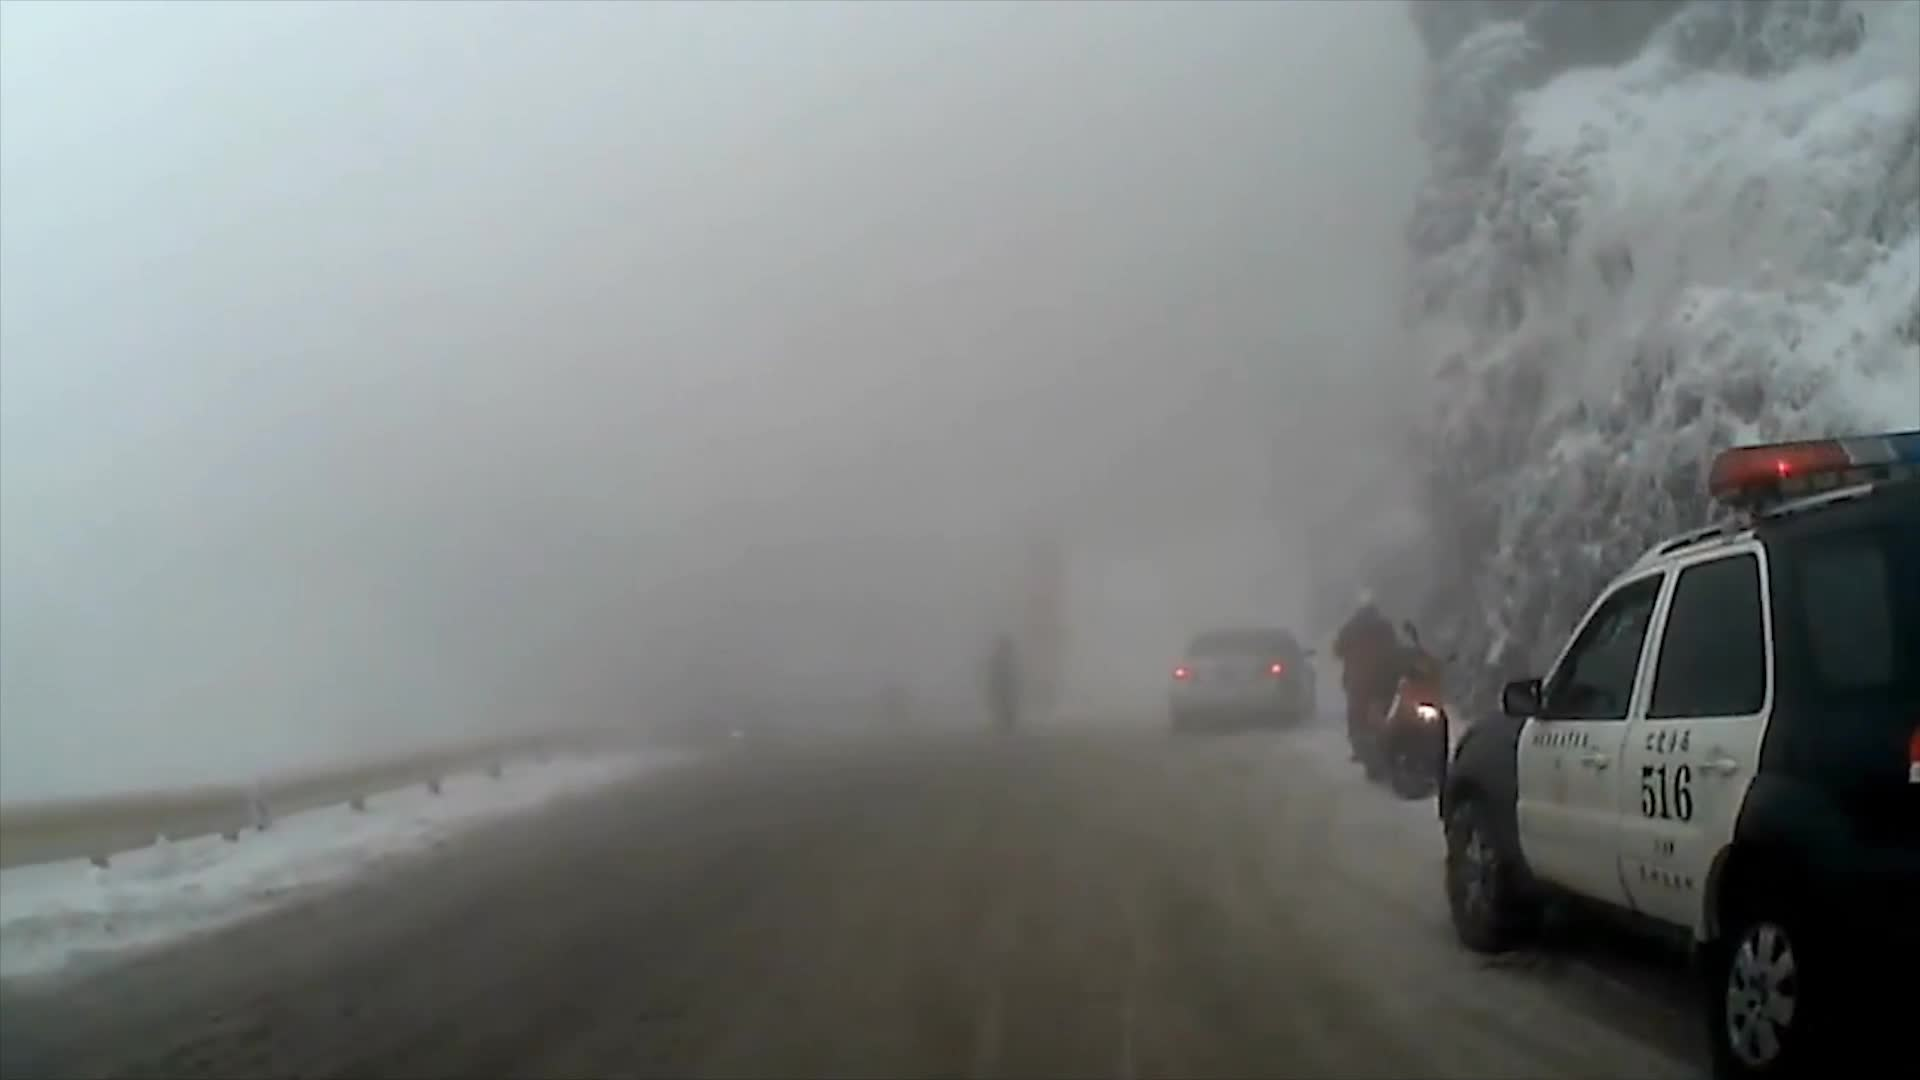pedestrian: (1331, 588, 1407, 758), (986, 628, 1024, 742)
vehicle: (1428, 431, 1918, 1080), (1165, 625, 1317, 738)
